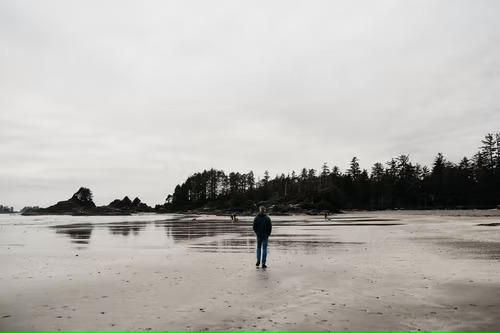person: (253, 207, 272, 268)
